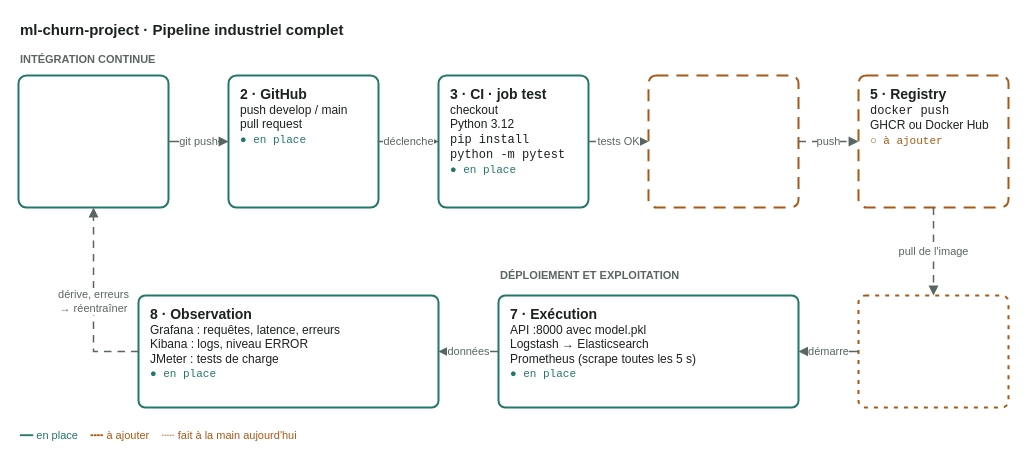
Image size: 1026x462. Some labels were removed from this diagram. The shapes that lost their labels are listed below. From the top down, each one's centre as x and y in pixels, then its label:
At (x=93, y=141): "1 · Dév branche develop train.py → model.pkl pytest en local ● en place".
At (x=723, y=141): "4 · Build docker build tag = sha du commit ○ à ajouter".
At (x=933, y=351): "6 · Déploiement docker compose up -d --build ◇ manuel".
